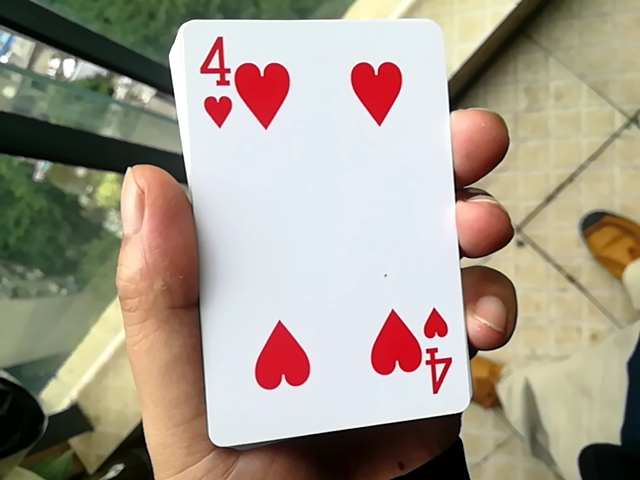hx 4: (149, 16, 470, 441)
